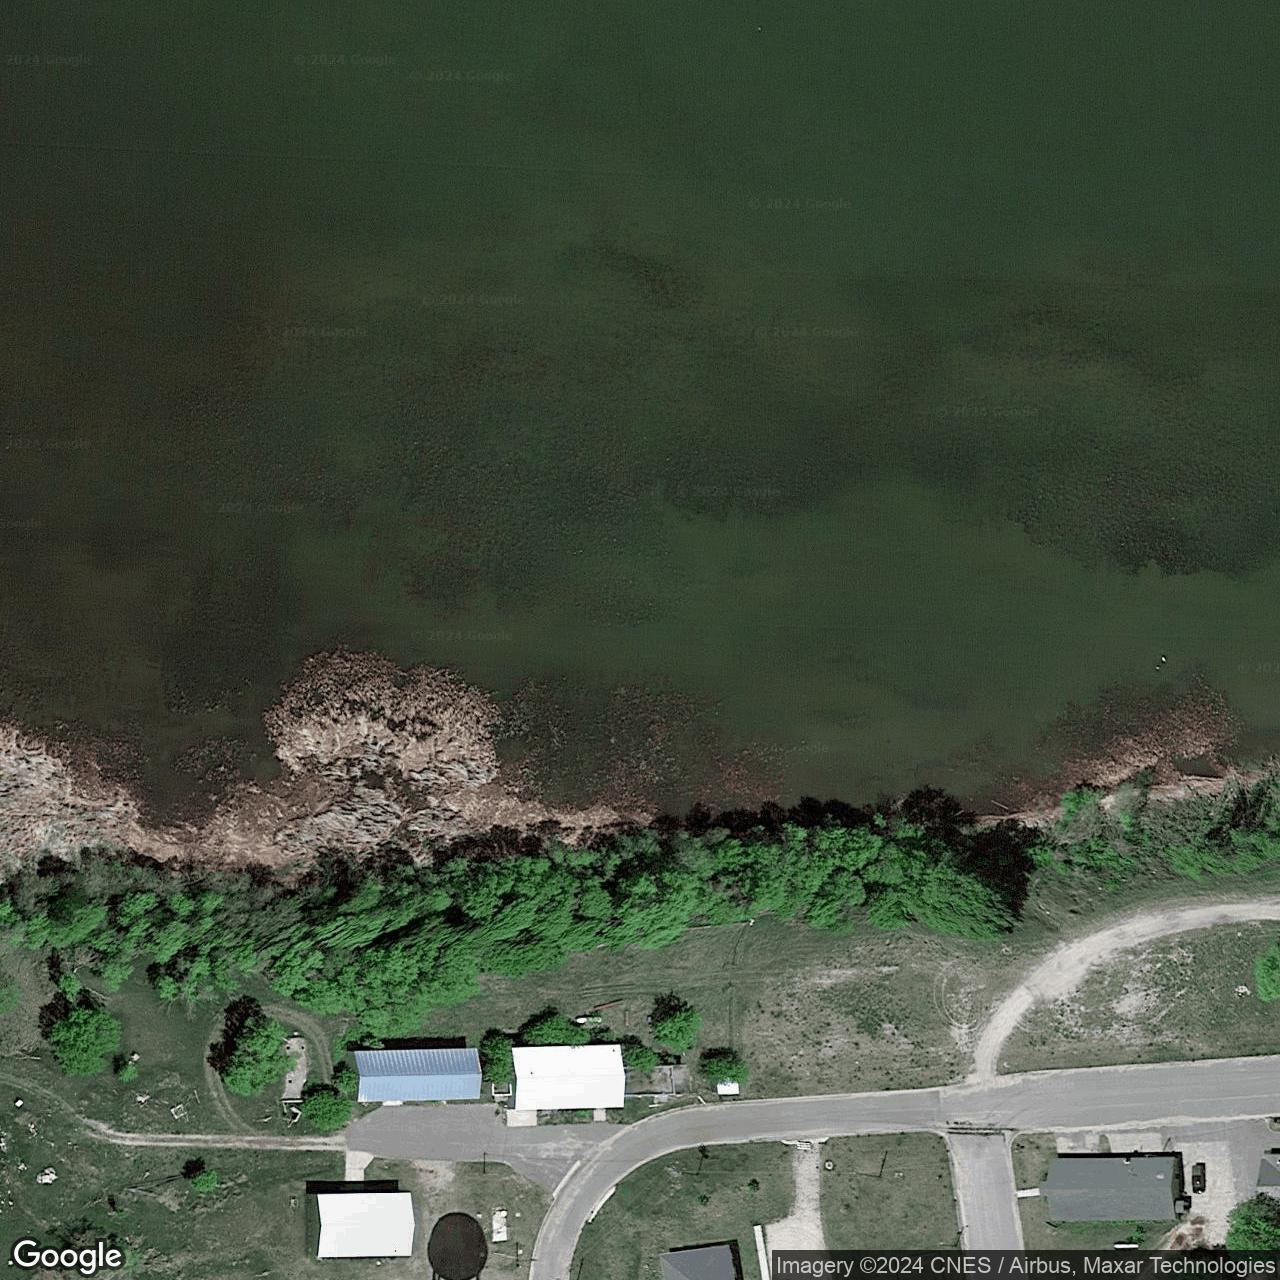Garage: (345, 1047, 483, 1103)
House: (1040, 1157, 1180, 1221), (508, 1044, 626, 1109), (307, 1192, 415, 1258), (659, 1242, 736, 1280), (1257, 1153, 1280, 1200)
Propane: (576, 1015, 604, 1024), (1112, 1241, 1141, 1250)
